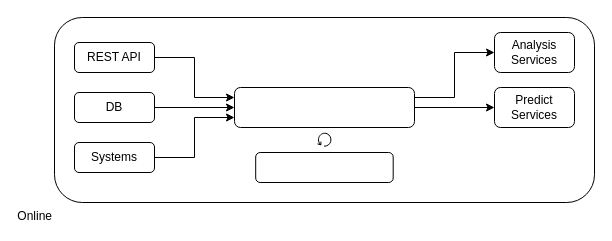
This 612x241 diagram has some shape labels left out. Here are the shapes that lost their labels. From the top down, the centre of each, then its label:
At (x=324, y=107): "Kafka".
At (x=324, y=167): "Feature Stream Engine".
